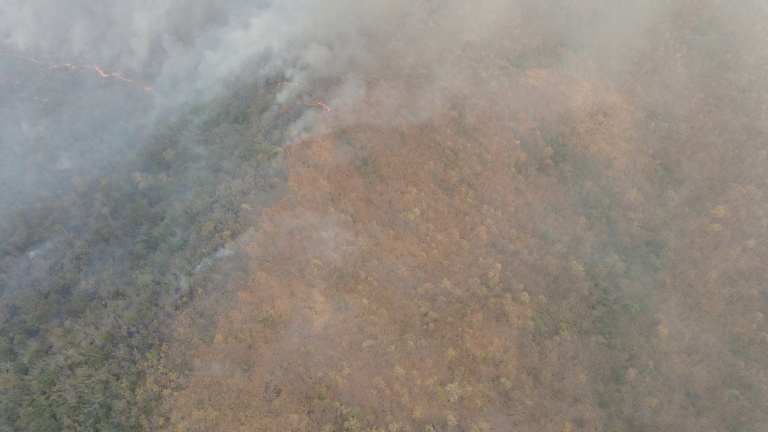fire: (27, 51, 166, 96), (271, 80, 334, 116)
smoke: (4, 1, 272, 193), (286, 74, 392, 146), (263, 37, 332, 117), (191, 228, 252, 272)
